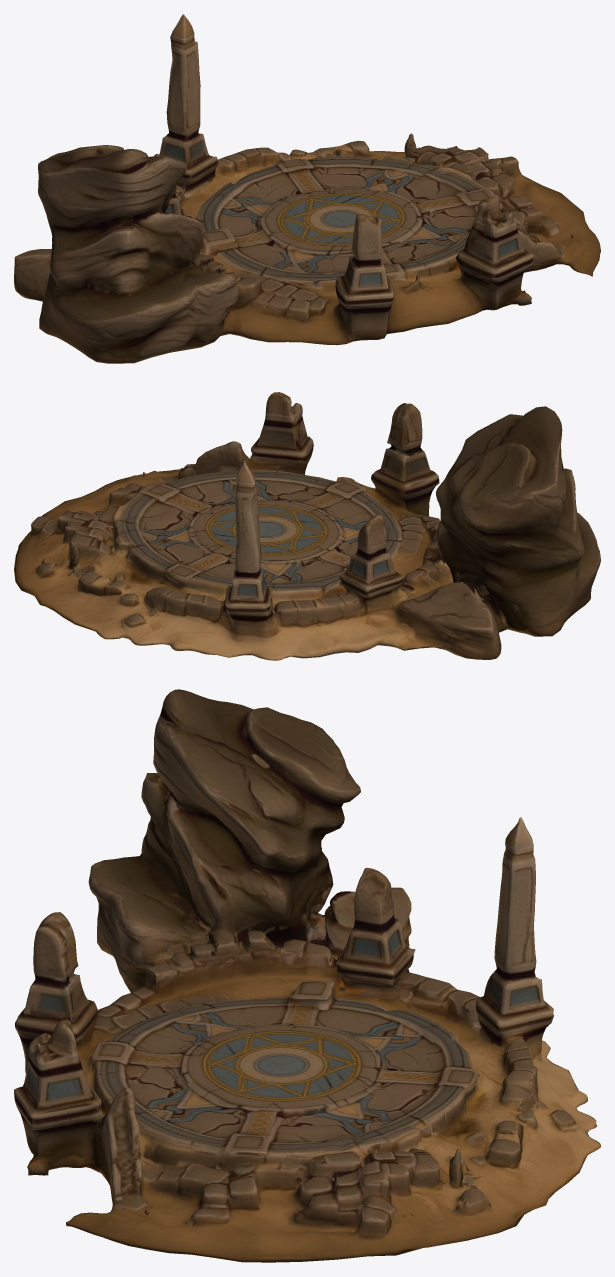
Rendered from GroundLayer.fbx.
3 renders of one model, top to bottom at view 1: azimuth 30°, elevation 25°; view 2: azimuth 150°, elevation 25°; view 3: azimuth 270°, elevation 25°, orthographic. The views are drawn at different scales.
Visible parts, largest first — view 1: tripo_node_a11eafc4; view 2: tripo_node_a11eafc4; view 3: tripo_node_a11eafc4.
Boxes of the visible parts, left/top/right/bottom form: tripo_node_a11eafc4: left=14, top=14, right=600, bottom=363; tripo_node_a11eafc4: left=14, top=392, right=600, bottom=660; tripo_node_a11eafc4: left=14, top=689, right=600, bottom=1262.
Size of the model in its own units: 0.9959 by 0.3556 by 0.7149.
1 material, 1 textured.
